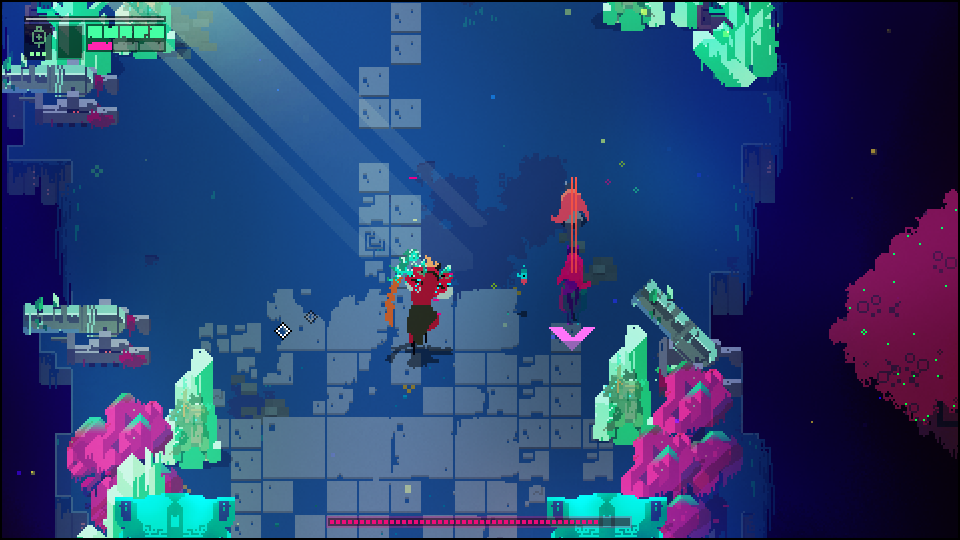hanged_man: (382, 252, 455, 354)
player: (552, 178, 590, 239)
